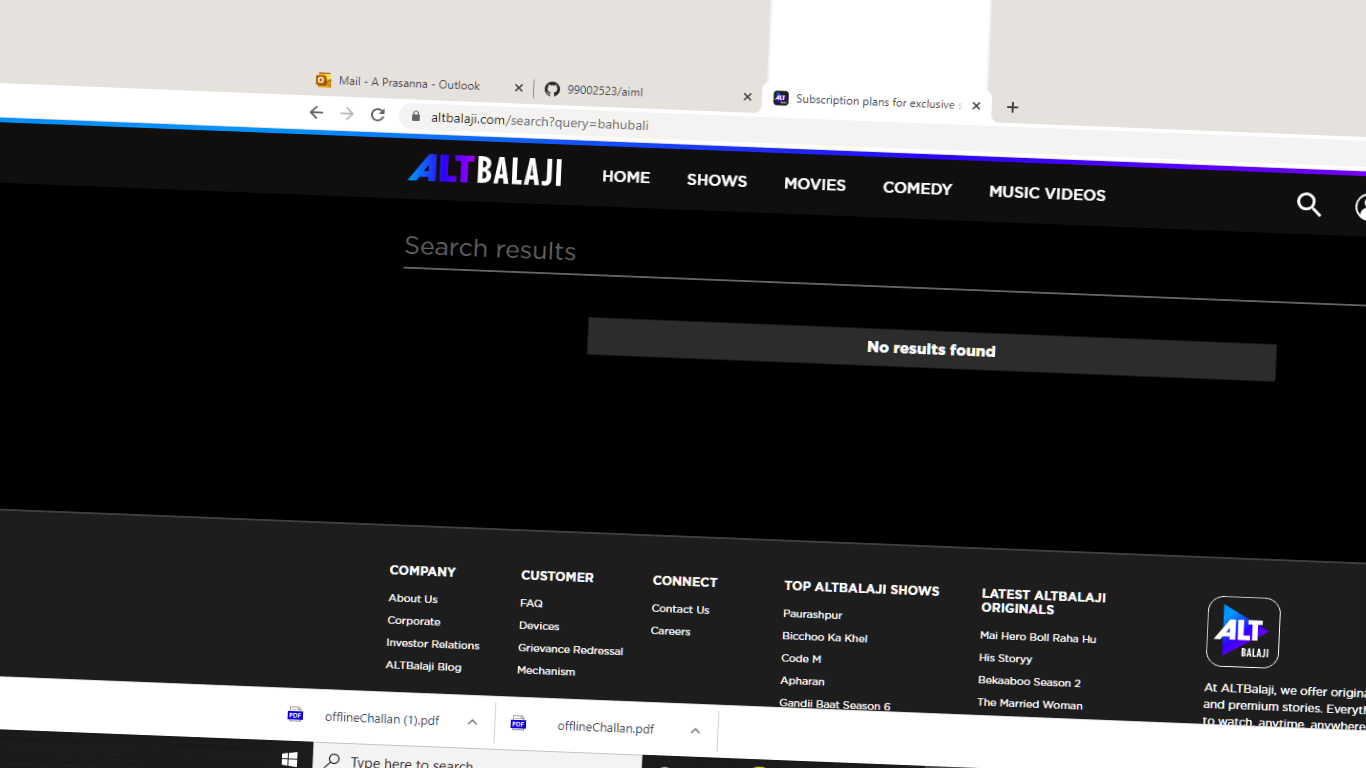noresultsfound: (560, 305, 1283, 390)
searchicon: (1289, 192, 1335, 225)
searchtextbox: (386, 209, 1359, 305)
